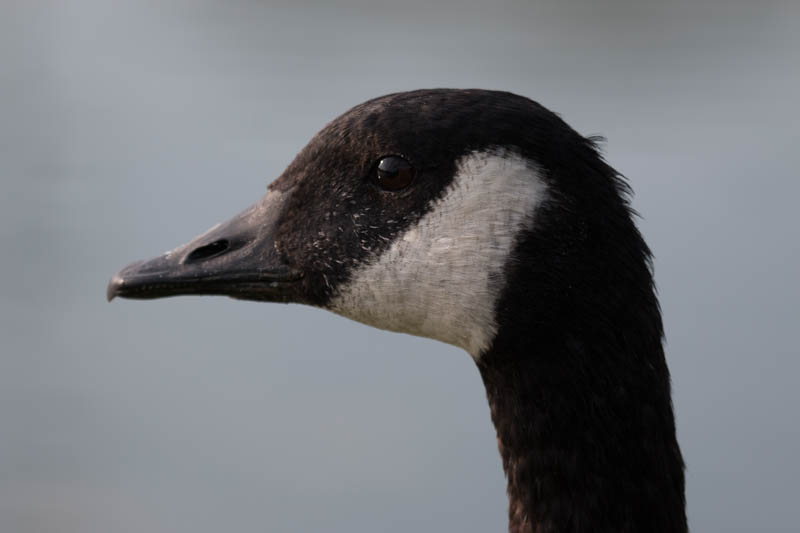goose-head: (105, 87, 642, 371)
